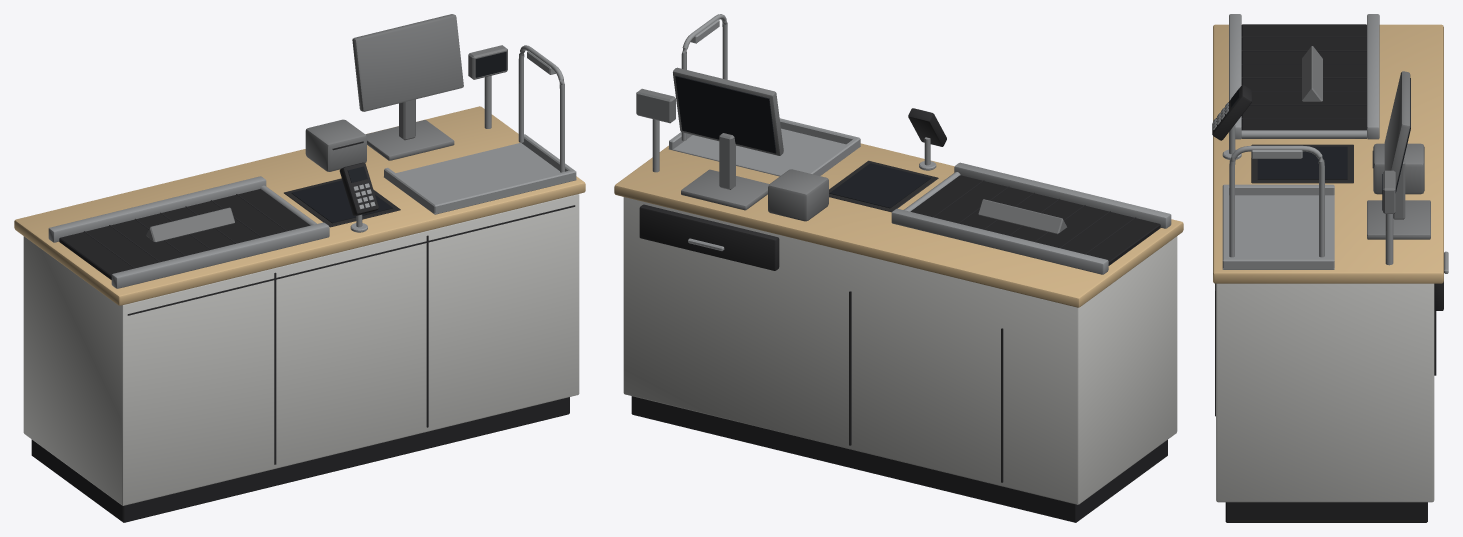
File: CheckoutCounter.fbx
3 renders of one model, left to right at view 1: azimuth 30°, elevation 25°; view 2: azimuth 150°, elevation 25°; view 3: azimuth 270°, elevation 25°, orthographic. The views are drawn at different scales.
Visible parts, largest first — view 1: CheckoutCounter_Mesh; view 2: CheckoutCounter_Mesh; view 3: CheckoutCounter_Mesh.
Part boxes in pixels (x1,y1,x2,y2): CheckoutCounter_Mesh: (14,14,585,522); CheckoutCounter_Mesh: (614,14,1183,522); CheckoutCounter_Mesh: (1212,14,1448,522).
Size of the model in its own units: 1.84 by 1.31 by 0.7369.
